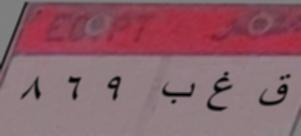6: (59, 73, 89, 104)
8: (13, 70, 48, 107)
9: (101, 67, 130, 107)
baa: (159, 78, 200, 105)
ghayn: (201, 68, 238, 118)
qaaf: (254, 67, 295, 114)
